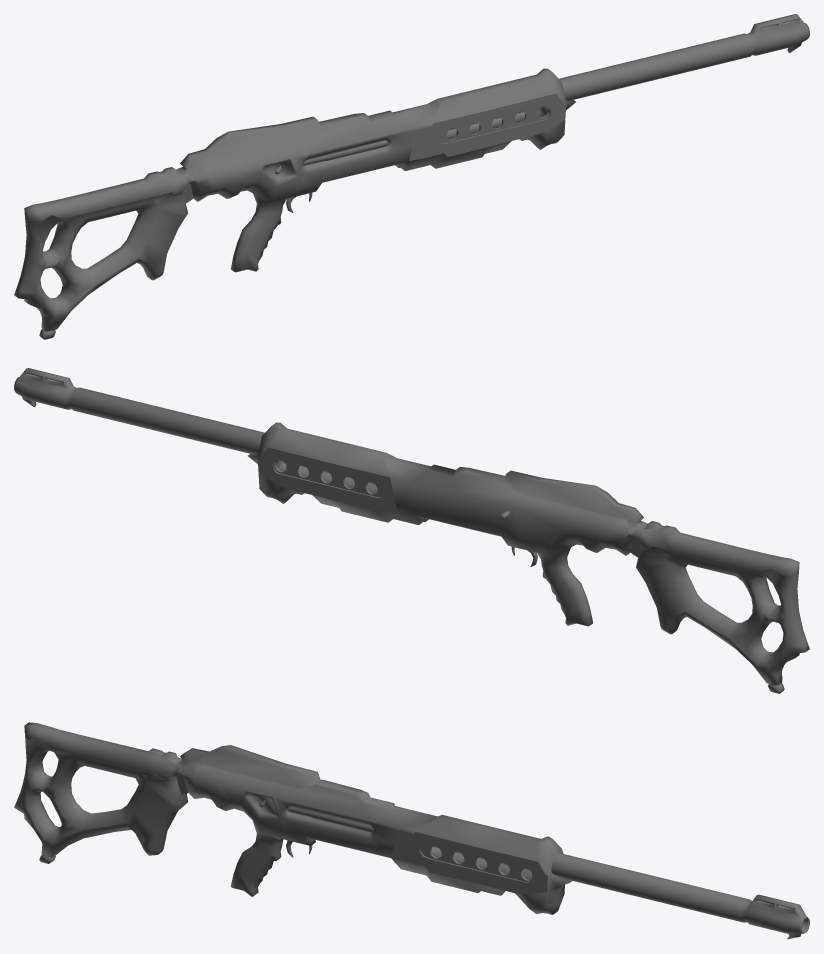
The model's file is gun.glb.
The picture shows the model from 3 angles, top to bottom: view 1: azimuth 30°, elevation 25°; view 2: azimuth 150°, elevation 25°; view 3: azimuth 330°, elevation 25°; orthographic projection.
Visible parts, largest first — view 1: Sniper_Rifle_Cube; view 2: Sniper_Rifle_Cube; view 3: Sniper_Rifle_Cube.
Part boxes in pixels (box(x1,y1,x2,y2)): Sniper_Rifle_Cube: box(14, 14, 809, 339); Sniper_Rifle_Cube: box(14, 368, 809, 693); Sniper_Rifle_Cube: box(14, 722, 809, 939).
Bounding box in the file's own units: 9.81 × 1.91 × 0.5424.
Materials: 1 (1 with a texture image).
